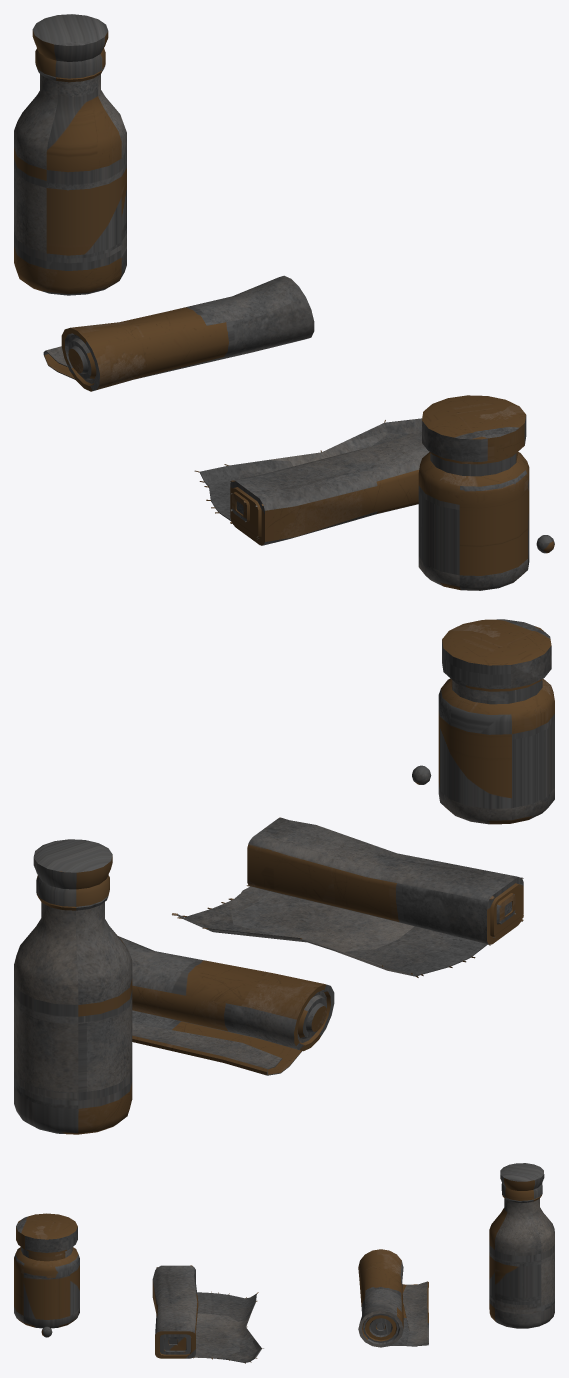
File: медикаменты.fbx
The picture shows the model from 3 angles, top to bottom: view 1: azimuth 30°, elevation 25°; view 2: azimuth 150°, elevation 25°; view 3: azimuth 270°, elevation 25°; orthographic projection. The views are drawn at different scales.
Parts seen in each view (by area): view 1: Окружность.001, Окружность.002, Окружность.004, Окружность.003; view 2: Окружность.004, Окружность.001, Окружность.002, Окружность.003; view 3: Окружность.001, Окружность.004, Окружность.002, Окружность.003.
Boxes of the visible parts, x1,y1,x2,y2 form: Окружность.001: (14, 14, 126, 295); Окружность.002: (418, 395, 529, 590); Окружность.004: (194, 418, 429, 545); Окружность.003: (43, 275, 314, 391); Окружность.004: (172, 817, 523, 977); Окружность.001: (14, 839, 132, 1134); Окружность.002: (438, 619, 554, 824); Окружность.003: (118, 936, 334, 1075); Окружность.001: (489, 1163, 554, 1328); Окружность.004: (152, 1265, 263, 1363); Окружность.002: (14, 1213, 79, 1328); Окружность.003: (358, 1249, 428, 1347).
Bounding box in the file's own units: 592 × 593 × 1845.
